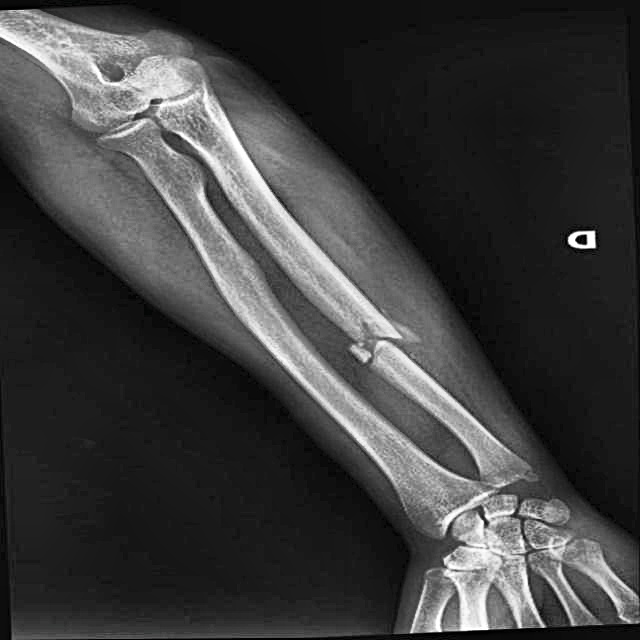Comminuted: (320, 298, 456, 383)
